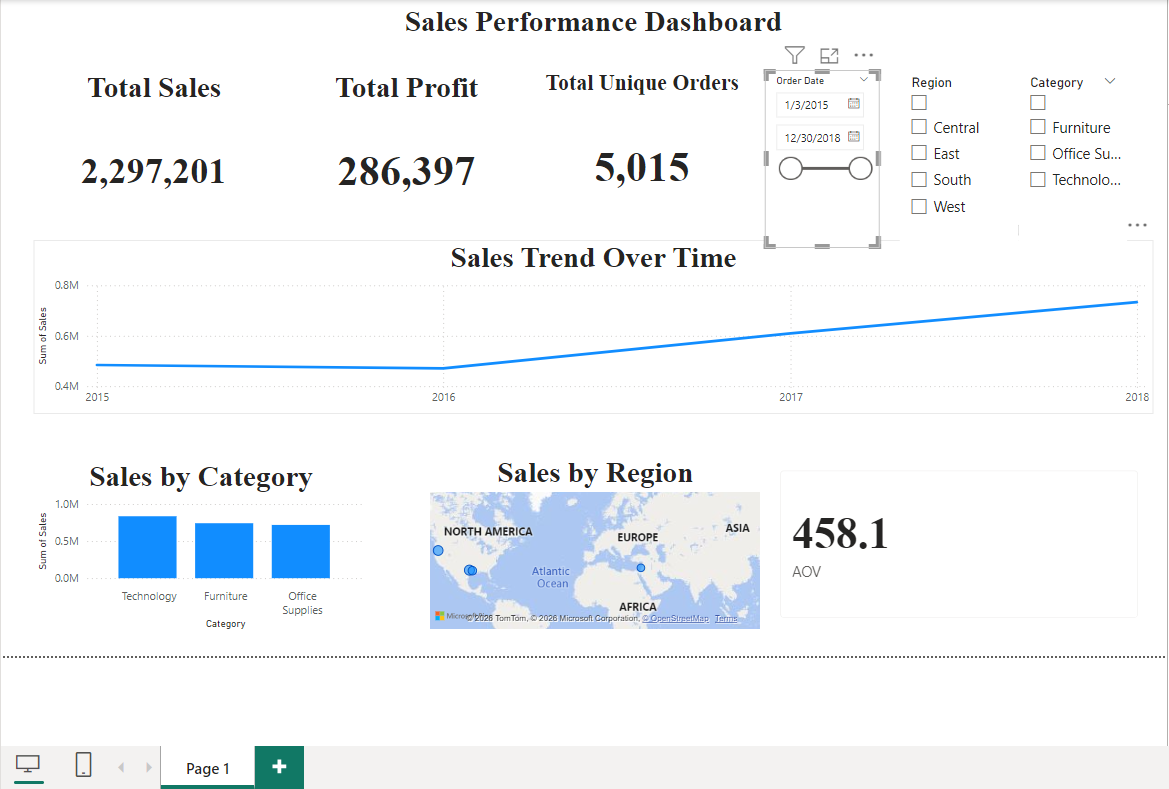

What the dashboard file says about the page in this screenshot:
{"tool":"powerbi","page":{"name":"Page 1","canvas":[1280,720],"ordinal":0},"visuals":[{"type":"cardVisual","title":"Total Sales","fields":{"Data":["Sum(superstore.Sales)"]},"box":[35.7,76.8,264.8,183.9],"z":0},{"type":"cardVisual","title":"Total Profit","fields":{"Data":["Sum(superstore.Profit)"]},"box":[314.9,76.8,259.3,183.9],"z":1000},{"type":"cardVisual","title":"Total Unique Orders","fields":{"Data":["Count(superstore.Order ID)"]},"box":[588.7,76.8,230.5,183.9],"z":2000},{"type":"lineChart","title":"Sales Trend Over Time","fields":{"Category":["superstore.Order Date.Variation.Date Hierarchy.Year","superstore.Order Date.Variation.Date Hierarchy.Month"],"Y":["Sum(superstore.Sales)"]},"box":[35.7,263.5,1229.5,190.7],"z":3000},{"type":"clusteredColumnChart","title":"Sales by Category","fields":{"Category":["superstore.Category"],"Y":["Sum(superstore.Sales)"]},"box":[35.7,503.6,367.8,192.1],"z":4000},{"type":"map","title":"Sales by Region","fields":{"Category":["superstore.Region"],"Size":["Sum(superstore.Sales)"]},"box":[466.6,499.5,371.9,196.2],"z":5000},{"type":"textbox","box":[381.5,0,537.9,53.5],"z":6000},{"type":"slicer","fields":{"Values":["superstore.Order Date"]},"box":[838.4,76.8,126.2,194.9],"z":7000},{"type":"slicer","fields":{"Values":["superstore.Region"]},"box":[986.6,76.8,130.4,194.9],"z":8000},{"type":"slicer","fields":{"Values":["superstore.Category"]},"box":[1117,76.8,119.4,194.9],"z":9000},{"type":"cardVisual","fields":{"Data":["superstore.AOV"]},"box":[839,499,427,196],"z":9001}]}

Visuals, with their boxes on the page's 1280x720 design canvas (x1, y1, x2, y2). These are canvas units, not pixel positions in the 1169x789 screenshot, which may show the page scaled, cropped or inside an application window:
"Total Sales" cardVisual: <box>36,77,300,261</box>
"Total Profit" cardVisual: <box>315,77,574,261</box>
"Total Unique Orders" cardVisual: <box>589,77,819,261</box>
"Sales Trend Over Time" lineChart: <box>36,264,1265,454</box>
"Sales by Category" clusteredColumnChart: <box>36,504,404,696</box>
"Sales by Region" map: <box>467,500,838,696</box>
textbox: <box>382,0,919,54</box>
slicer - superstore.Order Date: <box>838,77,965,272</box>
slicer - superstore.Region: <box>987,77,1117,272</box>
slicer - superstore.Category: <box>1117,77,1236,272</box>
cardVisual - superstore.AOV: <box>839,499,1266,695</box>
